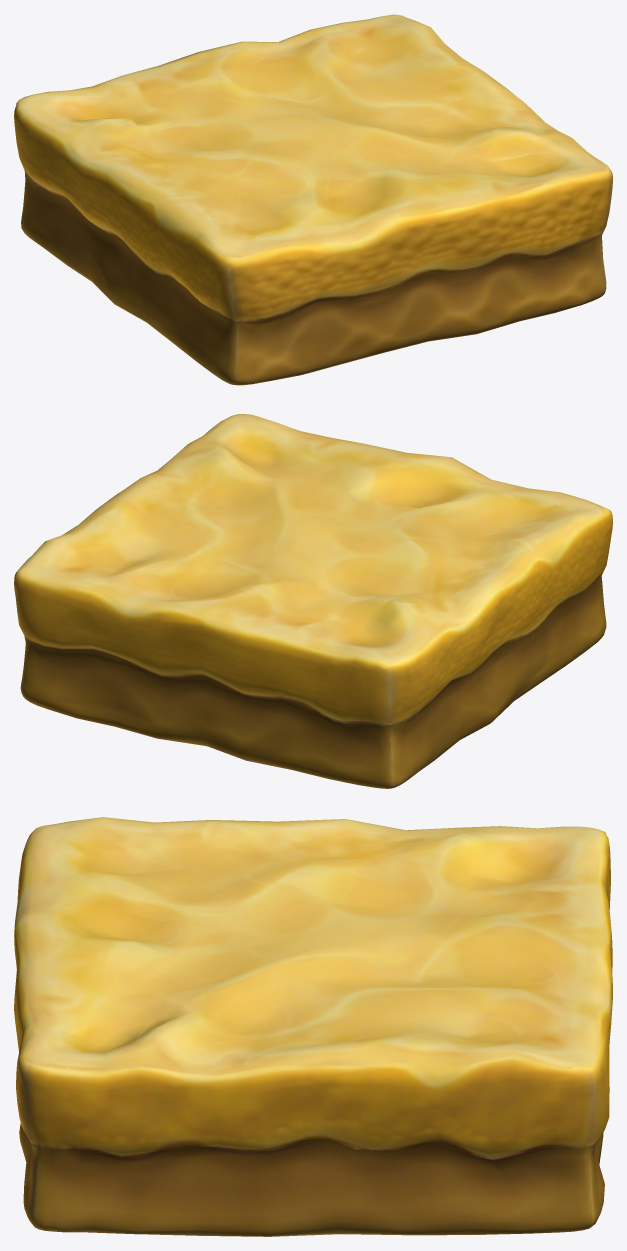
File: gndx_desert.glb
The picture shows the model from 3 angles, top to bottom: view 1: azimuth 30°, elevation 25°; view 2: azimuth 150°, elevation 25°; view 3: azimuth 270°, elevation 25°; orthographic projection. The views are drawn at different scales.
Parts seen in each view (by area): view 1: Mesh0; view 2: Mesh0; view 3: Mesh0.
Part boxes in pixels (<box>): Mesh0: <box>14,14,612,385</box>; Mesh0: <box>14,414,612,788</box>; Mesh0: <box>14,817,612,1236</box>.
Bounding box in the file's own units: 1.92 × 0.683 × 1.92.
Materials: 1 (1 with a texture image).
